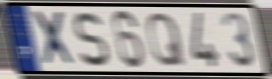3: (221, 10, 256, 70)
4: (190, 10, 221, 71)
6: (111, 9, 146, 71)
Q: (145, 11, 188, 69)
S: (73, 10, 111, 69)
X: (29, 9, 79, 69)
